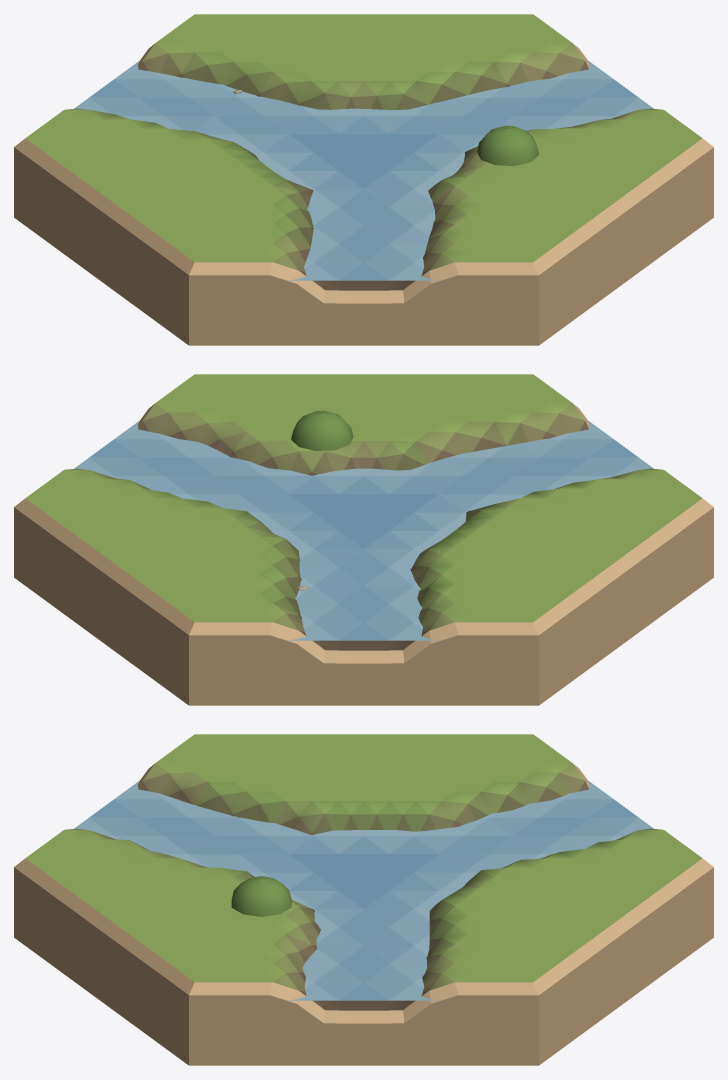
File: river_fork.fbx
3 views of the same model, one above another, from view 1: azimuth 30°, elevation 25°; view 2: azimuth 150°, elevation 25°; view 3: azimuth 270°, elevation 25° (orthographic).
Parts seen in each view (by area): view 1: river_fork; view 2: river_fork; view 3: river_fork.
Boxes of the visible parts, <box> form: river_fork: <box>14,14,713,345</box>; river_fork: <box>14,374,713,705</box>; river_fork: <box>14,734,713,1065</box>.
Size of the model in its own units: 1.73 by 0.3265 by 2.
